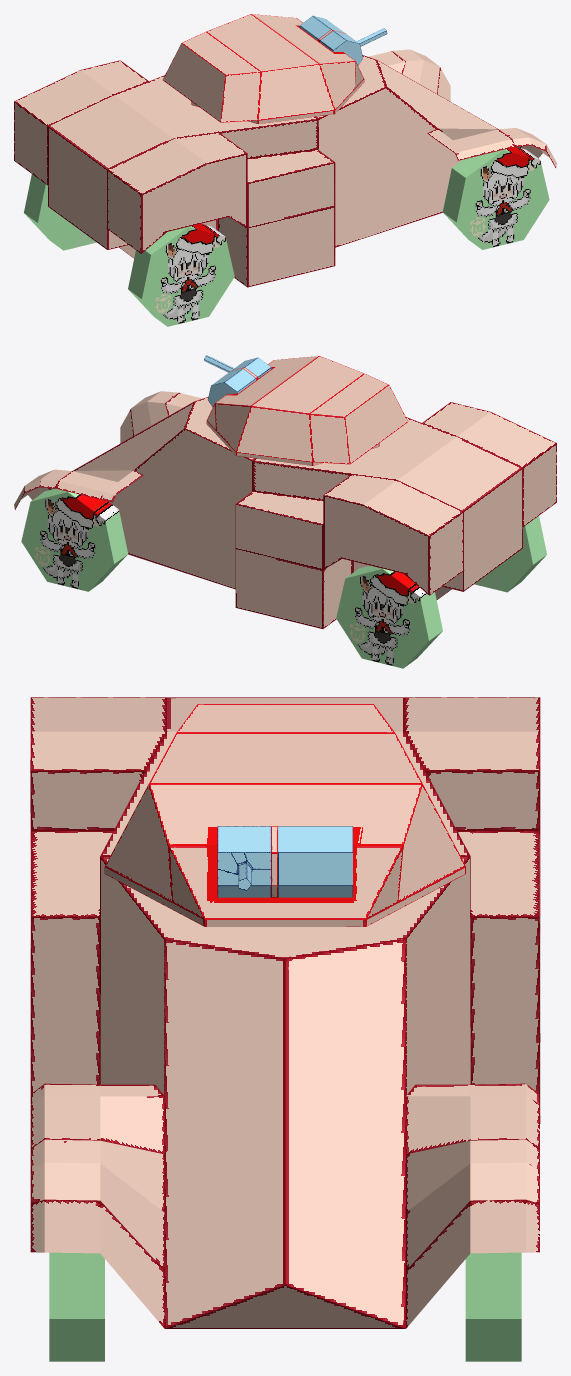
The model's file is AML-60.glb.
3 views of the same model, one above another, from view 1: azimuth 30°, elevation 25°; view 2: azimuth 150°, elevation 25°; view 3: azimuth 270°, elevation 25° (orthographic). The views are drawn at different scales.
Visible parts, largest first — view 1: body, turrent, wheel-F-R, wheel-R-R, wheel-R-L, manlet; view 2: body, turrent, wheel-F-L, wheel-R-L, wheel-R-R, manlet; view 3: body, turrent, manlet, wheel-F-L, wheel-F-R.
Part boxes in pixels (x1=…): body: x1=14, y1=49, x2=556, y2=287; turrent: x1=163, y1=14, x2=364, y2=123; wheel-F-R: x1=443, y1=147, x2=549, y2=249; wheel-R-R: x1=128, y1=224, x2=234, y2=326; wheel-R-L: x1=24, y1=174, x2=96, y2=250; manlet: x1=299, y1=15, x2=387, y2=65; body: x1=14, y1=391, x2=556, y2=628; turrent: x1=206, y1=356, x2=407, y2=465; wheel-F-L: x1=21, y1=488, x2=127, y2=591; wheel-R-L: x1=336, y1=565, x2=442, y2=668; wheel-R-R: x1=474, y1=516, x2=546, y2=592; manlet: x1=204, y1=355, x2=271, y2=407; body: x1=30, y1=697, x2=540, y2=1328; turrent: x1=104, y1=704, x2=465, y2=926; manlet: x1=217, y1=826, x2=352, y2=897; wheel-F-L: x1=465, y1=1252, x2=521, y2=1361; wheel-F-R: x1=49, y1=1252, x2=104, y2=1361.
Bounding box in the file's own units: 3.66 × 1.66 × 1.9.
4 materials, 4 textured.
